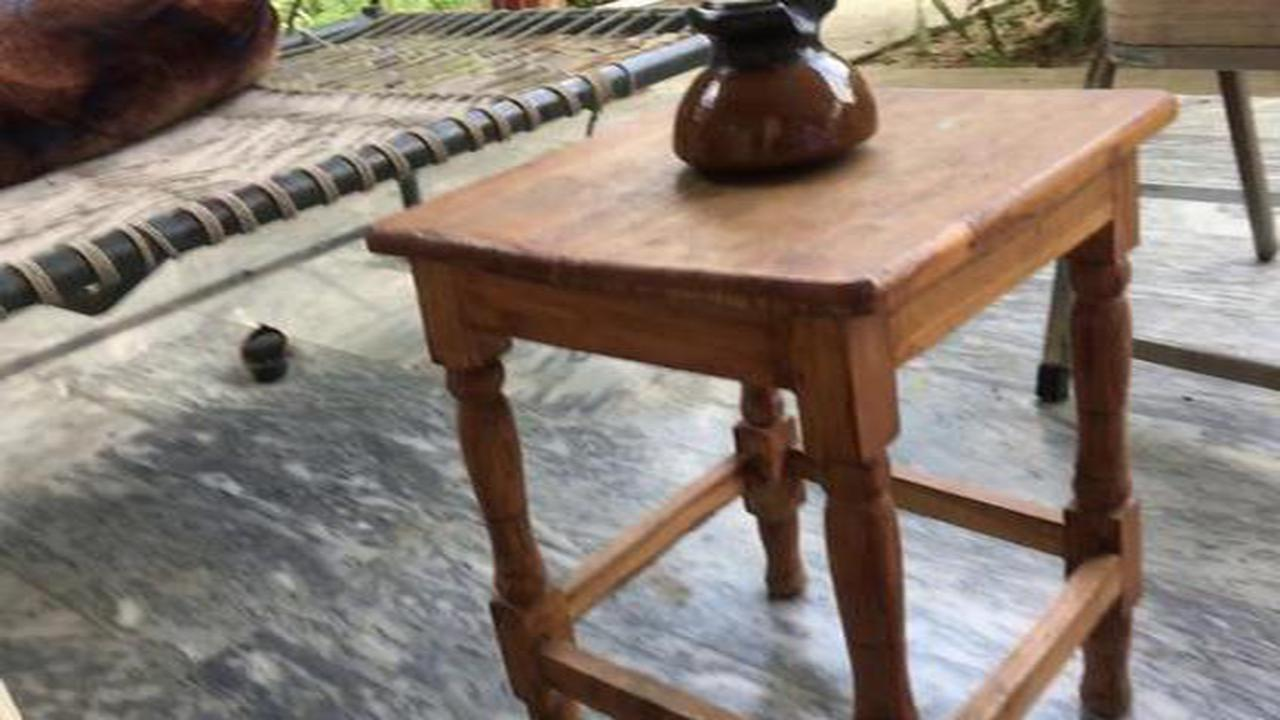insulator_pin: (659, 1, 899, 194)
